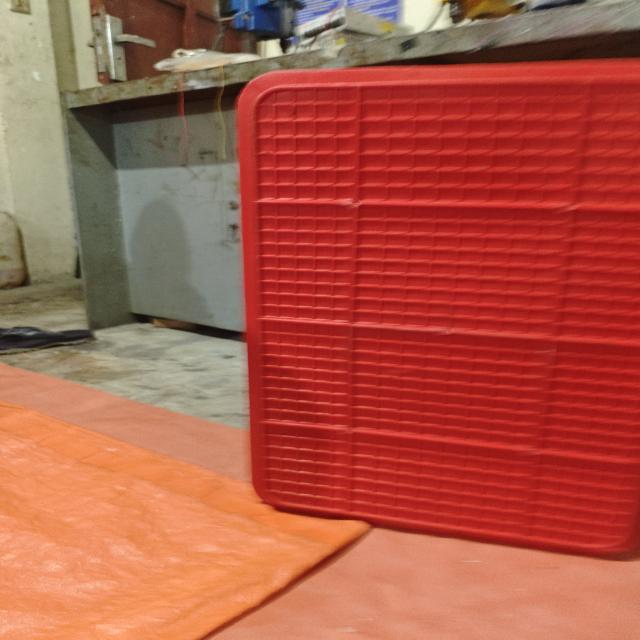red plastic box: (238, 57, 640, 561)
